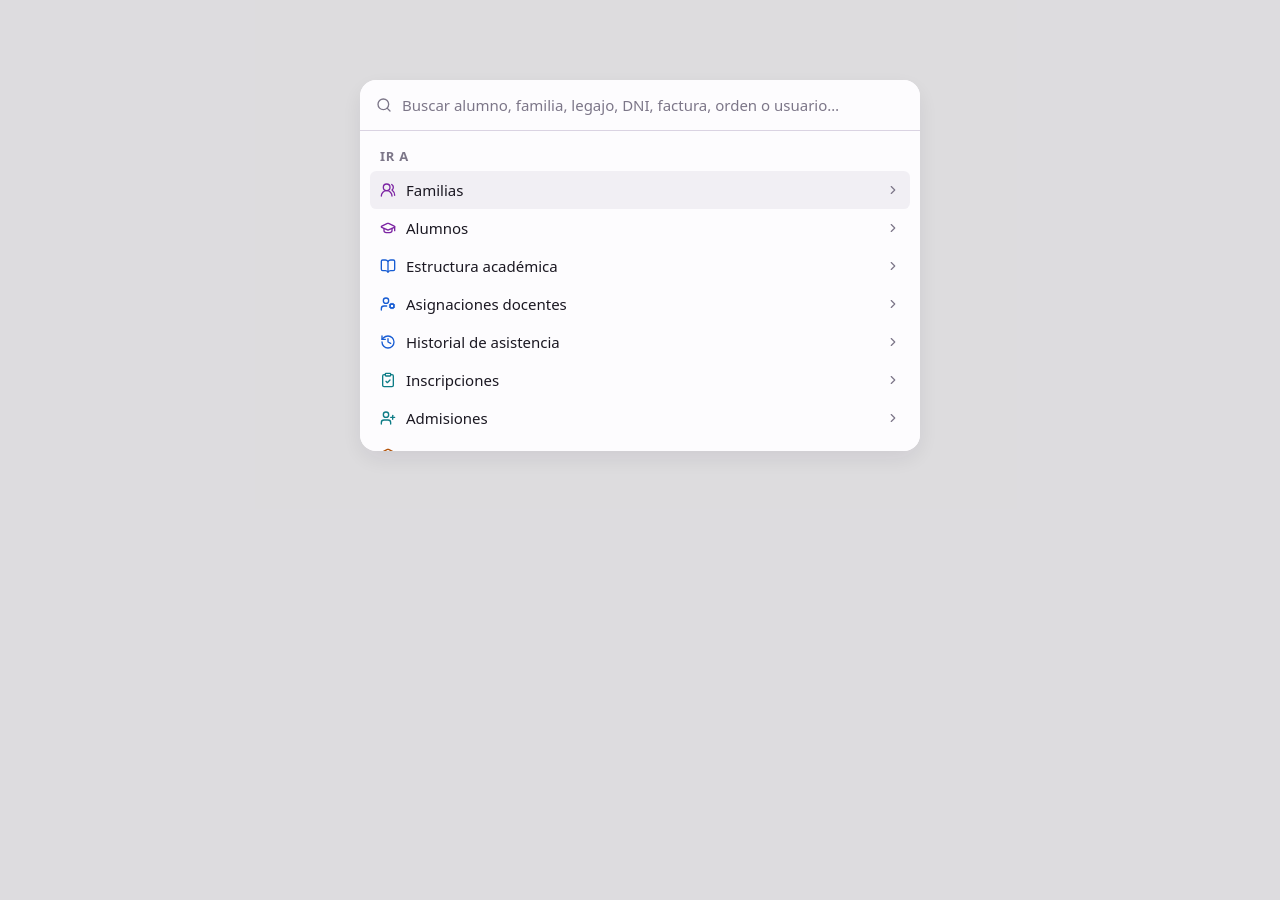
GlobalSearchDialog › busca alumnos, familias, deuda por familia y órdenes de compra
The width and height of the screenshot is (1280, 900).
In the dropdown with placeholder "Buscar alumno, familia, legajo, DNI, factura, orden o usuario…": (653, 105) left=402, top=94, right=904, bottom=116, type "Paz"
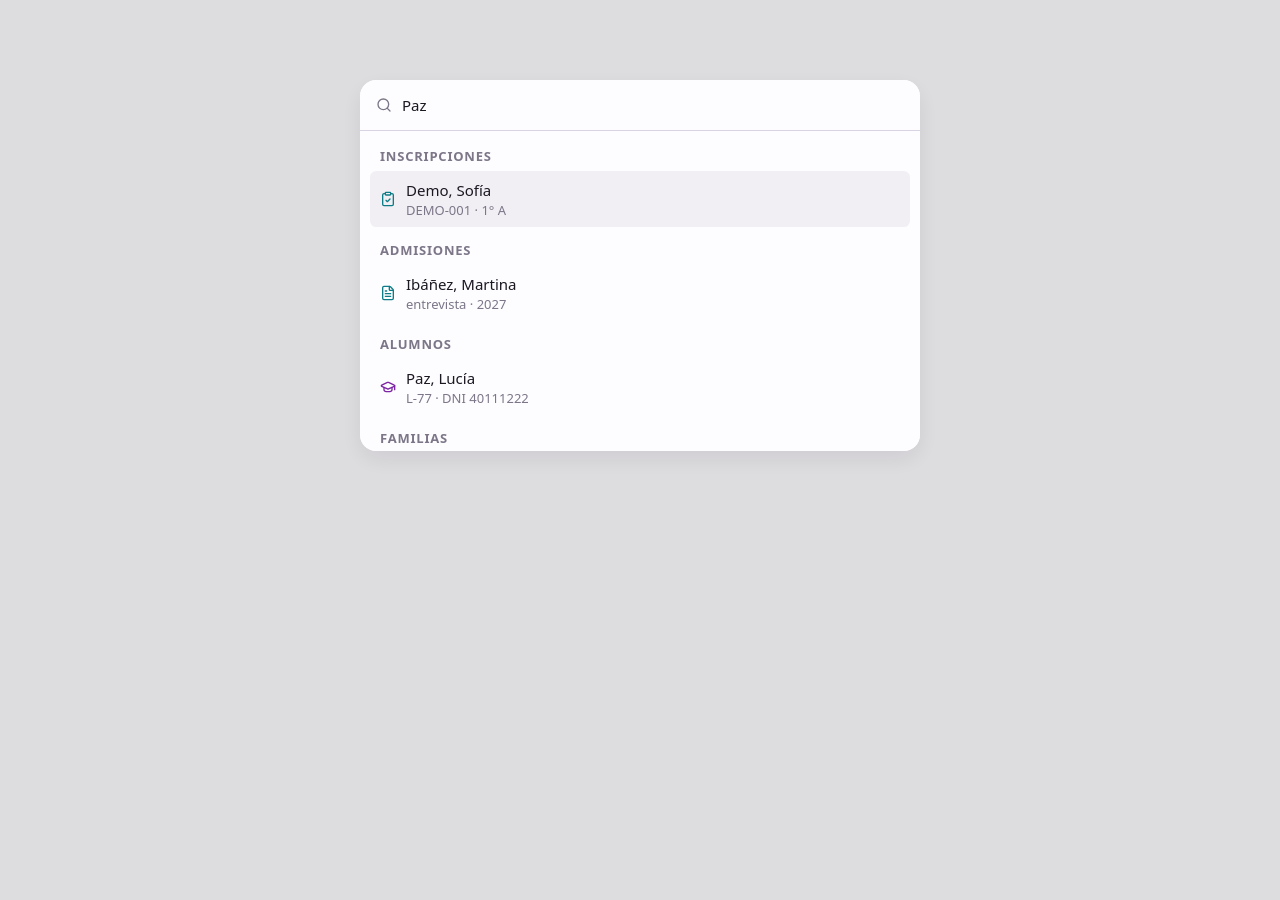
Check: the text "Paz, Lucía" is shown, box left=406, top=368, right=475, bottom=388
Check: the text "L-77 · DNI 40111222" is shown, box left=406, top=389, right=529, bottom=407
